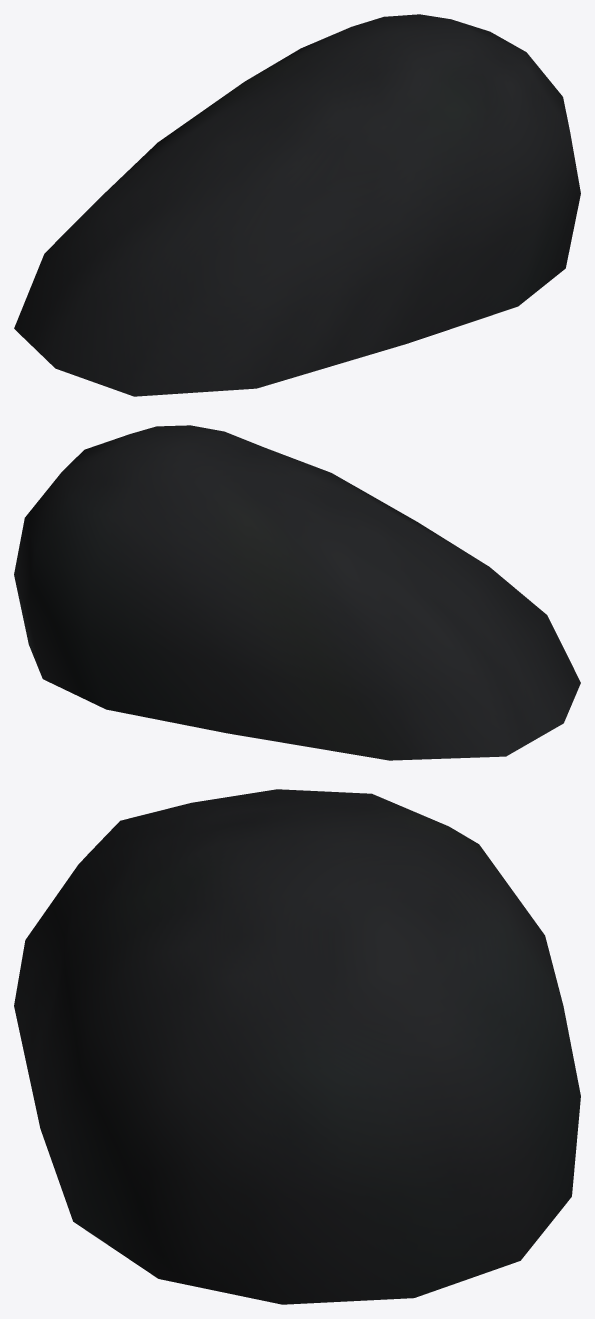
The model's file is Raton.fbx.
3 views of the same model, one above another, from view 1: azimuth 30°, elevation 25°; view 2: azimuth 150°, elevation 25°; view 3: azimuth 270°, elevation 25° (orthographic). The views are drawn at different scales.
Visible parts, largest first — view 1: Raton; view 2: Raton; view 3: Raton.
Boxes of the visible parts, <box> form: Raton: <box>14,14,580,396</box>; Raton: <box>14,425,580,760</box>; Raton: <box>14,789,580,1304</box>.
Size of the model in its own units: 12.63 by 5.09 by 7.38.
